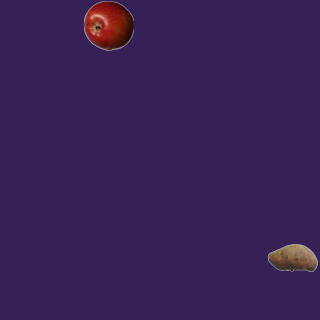Apple Braeburn: (83, 0, 133, 50)
Potato Sweet: (267, 232, 317, 282)
